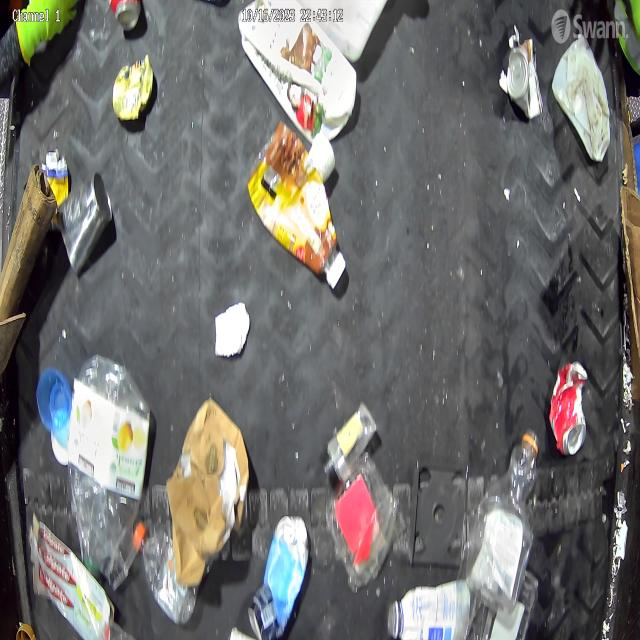can: (57, 174, 112, 273), (548, 362, 588, 459), (507, 39, 543, 119), (112, 54, 154, 122), (110, 1, 142, 32)
milk_jug: (552, 36, 611, 162)
non_white_jug: (238, 0, 357, 144)
plastic_bottle: (65, 354, 154, 581), (464, 426, 540, 617), (134, 518, 198, 627)
